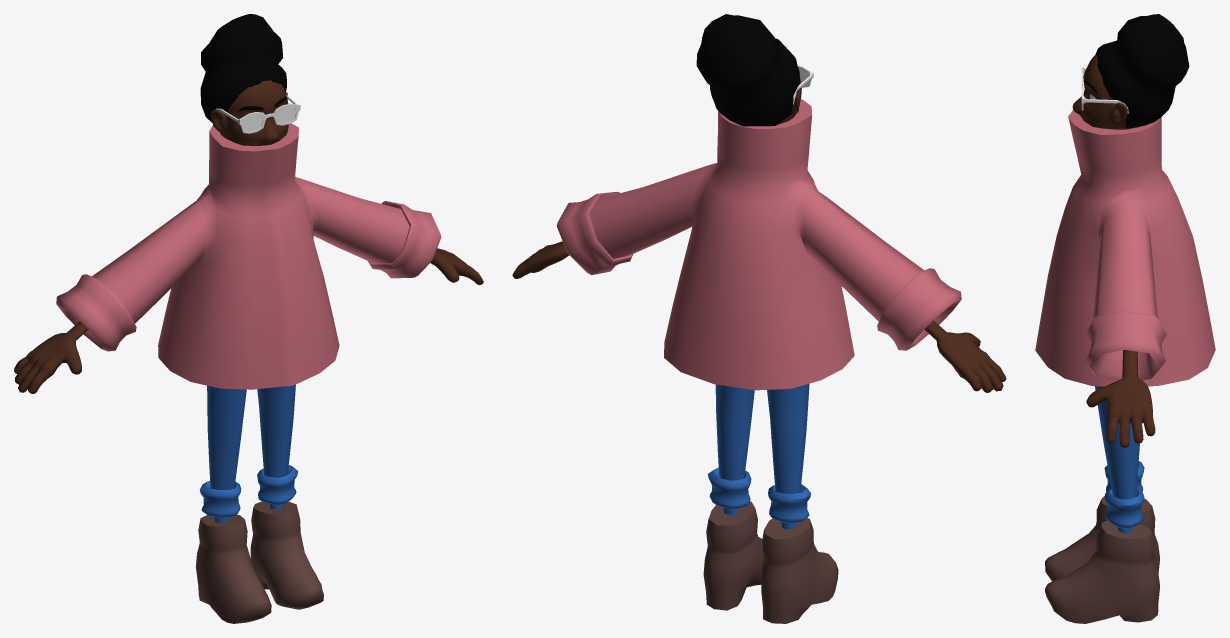
Rendered from Lotta_FBXModel_NO_RIG.fbx.
3 renders of one model, left to right at view 1: azimuth 30°, elevation 25°; view 2: azimuth 150°, elevation 25°; view 3: azimuth 270°, elevation 25°, orthographic. The views are drawn at different scales.
Visible parts, largest first — view 1: Retopo_Jacket, Retopo_Shoes, Pants, Retopo_hair, Retopo_hand, Retopo_Head, Sunglasses; view 2: Retopo_Jacket, Retopo_Shoes, Pants, Retopo_hair, Retopo_hand; view 3: Retopo_Jacket, Retopo_Shoes, Retopo_hair, Pants, Retopo_hand, Retopo_Head, Sunglasses.
Boxes of the visible parts, x1,y1,x2,y2 form: Retopo_Jacket: [56, 123, 441, 389]; Retopo_Shoes: [195, 501, 323, 623]; Pants: [199, 384, 298, 522]; Retopo_hair: [200, 14, 286, 122]; Retopo_hand: [14, 248, 483, 393]; Retopo_Head: [210, 80, 288, 145]; Sunglasses: [216, 95, 300, 133]; Retopo_Jacket: [557, 99, 961, 390]; Retopo_Shoes: [703, 501, 838, 623]; Pants: [707, 383, 811, 529]; Retopo_hair: [696, 14, 800, 126]; Retopo_hand: [512, 241, 1006, 392]; Retopo_Jacket: [1035, 109, 1215, 386]; Retopo_Shoes: [1045, 496, 1159, 623]; Retopo_hair: [1095, 14, 1189, 128]; Pants: [1095, 386, 1144, 533]; Retopo_hand: [1086, 350, 1155, 447]; Retopo_Head: [1072, 55, 1142, 129]; Sunglasses: [1081, 67, 1128, 113].
Size of the model in its own units: 143 by 168 by 46.68.
